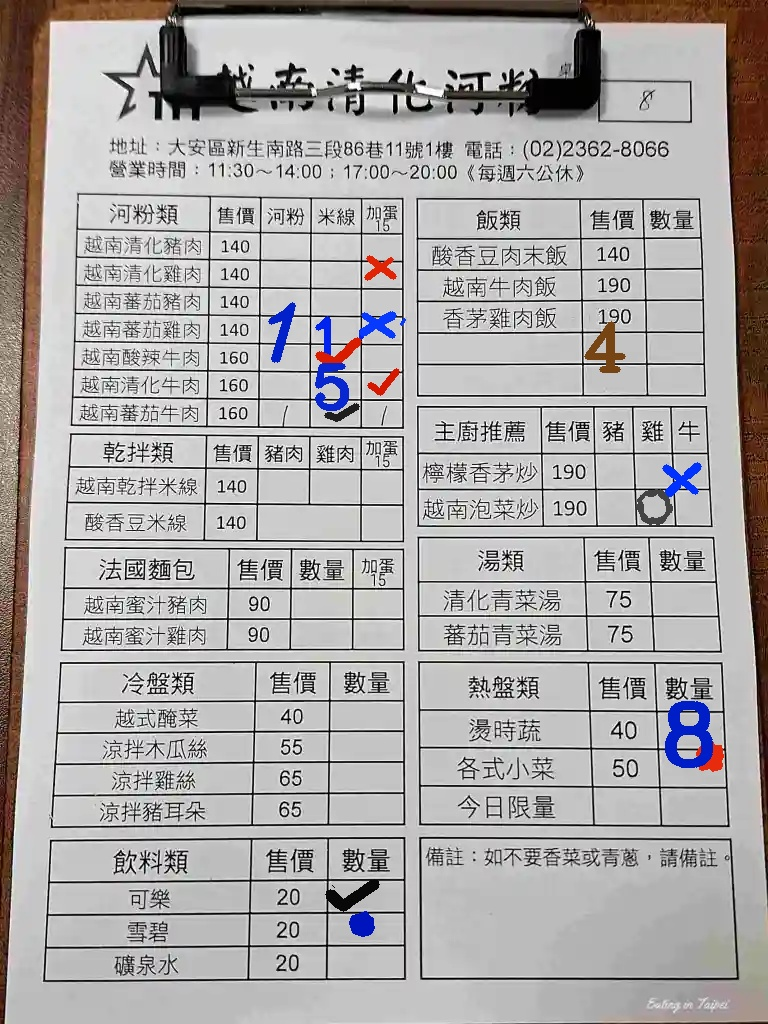marked_circle: (333, 914, 402, 949), (657, 748, 726, 783)
marked_hollow: (635, 488, 675, 525)
marked_number_1: (259, 316, 308, 344), (312, 316, 361, 344)
marked_number_4: (585, 331, 645, 361)
marked_number_5: (311, 371, 360, 399)
marked_number_8: (657, 713, 726, 748)
marked_tick: (332, 878, 401, 913), (312, 400, 361, 428), (311, 343, 360, 371), (361, 370, 401, 400)
marked_x: (671, 452, 711, 489), (363, 260, 403, 290), (361, 317, 401, 347)
